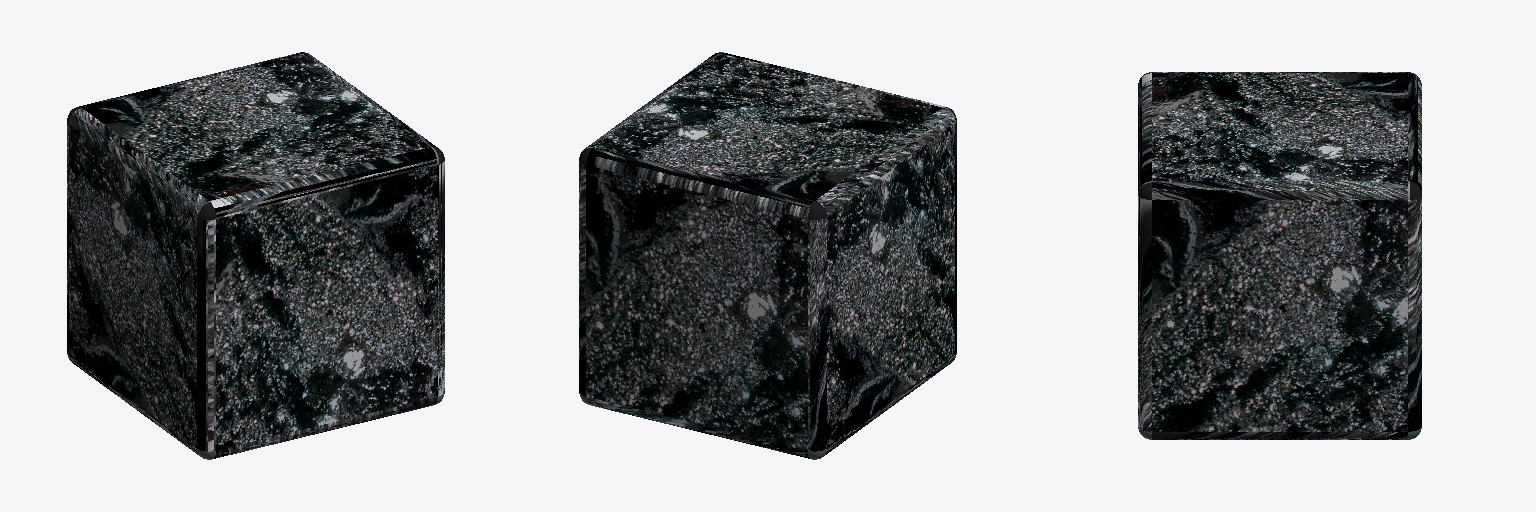
3 renders of one model, left to right at view 1: azimuth 30°, elevation 25°; view 2: azimuth 150°, elevation 25°; view 3: azimuth 270°, elevation 25°, orthographic.
Parts seen in each view (by area): view 1: Cube; view 2: Cube; view 3: Cube.
Boxes of the visible parts, x1=… form: Cube: x1=67, y1=52, x2=444, y2=459; Cube: x1=579, y1=52, x2=956, y2=459; Cube: x1=1138, y1=72, x2=1421, y2=439.
Bounding box in the file's own units: 2 × 2 × 2.
Materials: 1 (1 with a texture image).